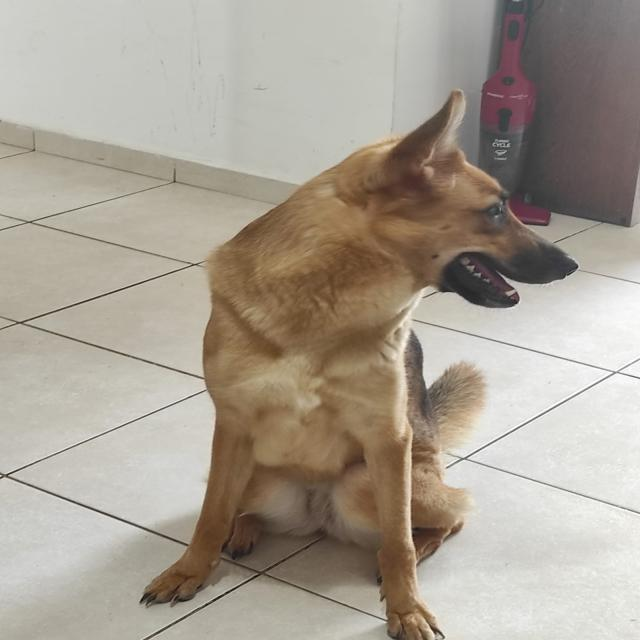cachorro: (131, 90, 579, 640)
